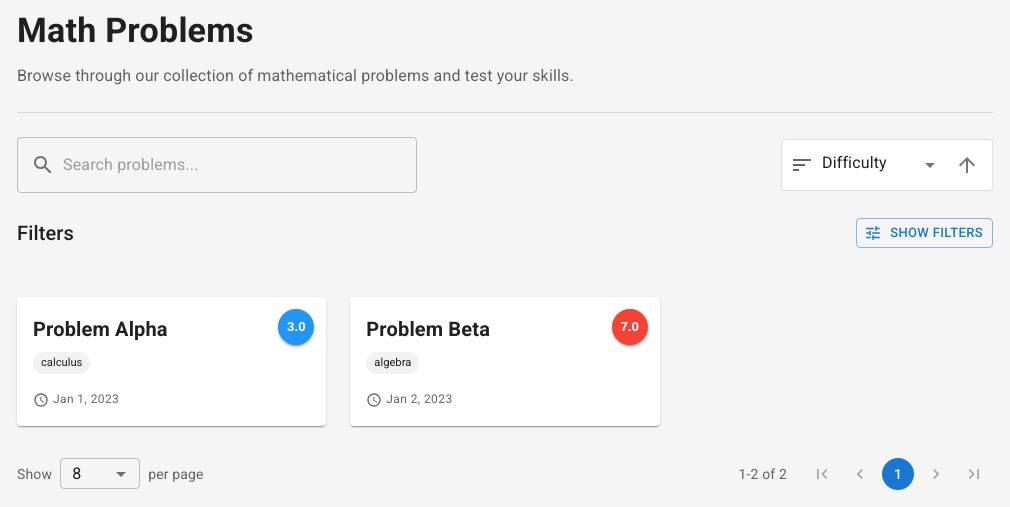
Test: <ProblemList /> › filters problems by search query
Check: the heading "Problem Alpha" is shown, box [33,317,168,341]
Simulate typing in the search box
Type "Alpha" into the field with placeholder "Search problems..." at (240, 165), box [63,137,417,193]
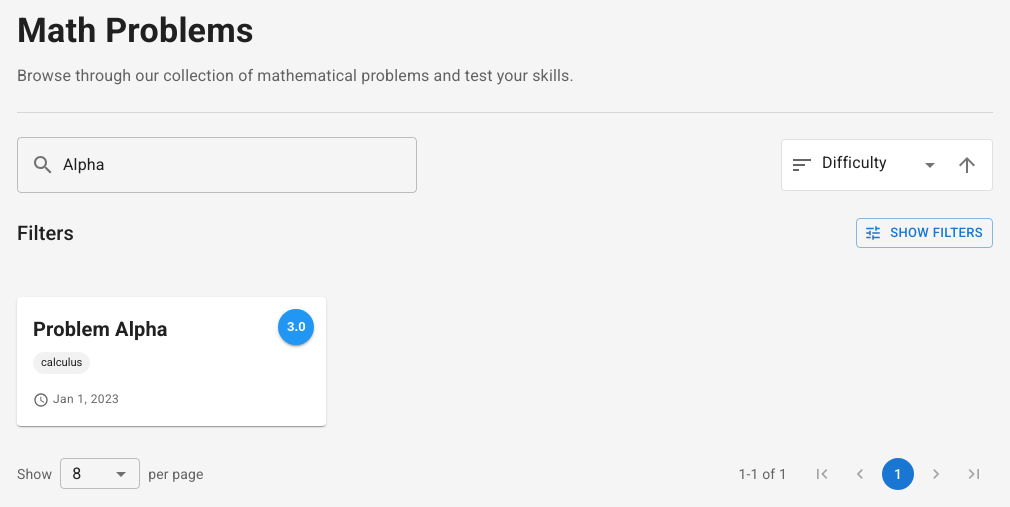
Check: the heading "Problem Alpha" is shown, box [33,317,168,341]
Check: the button "Problem Beta" is gone
